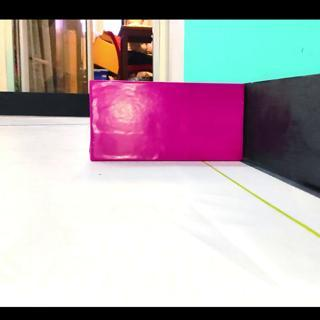xparking: (89, 81, 246, 161)
